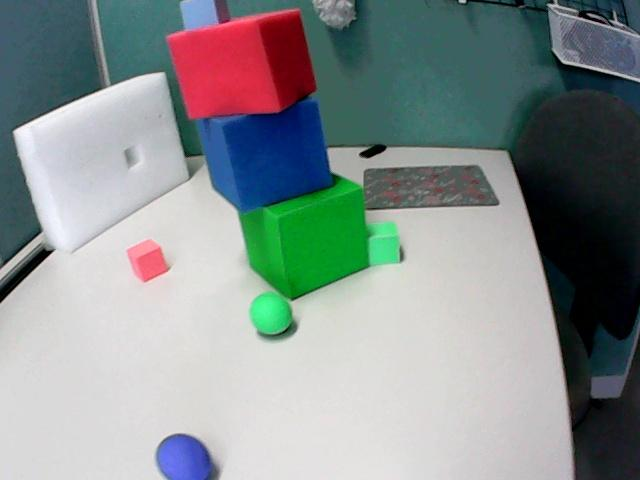blue_block: (197, 97, 333, 213), (196, 118, 239, 205), (180, 0, 229, 29)
red_block: (167, 9, 316, 119), (127, 240, 167, 281)
